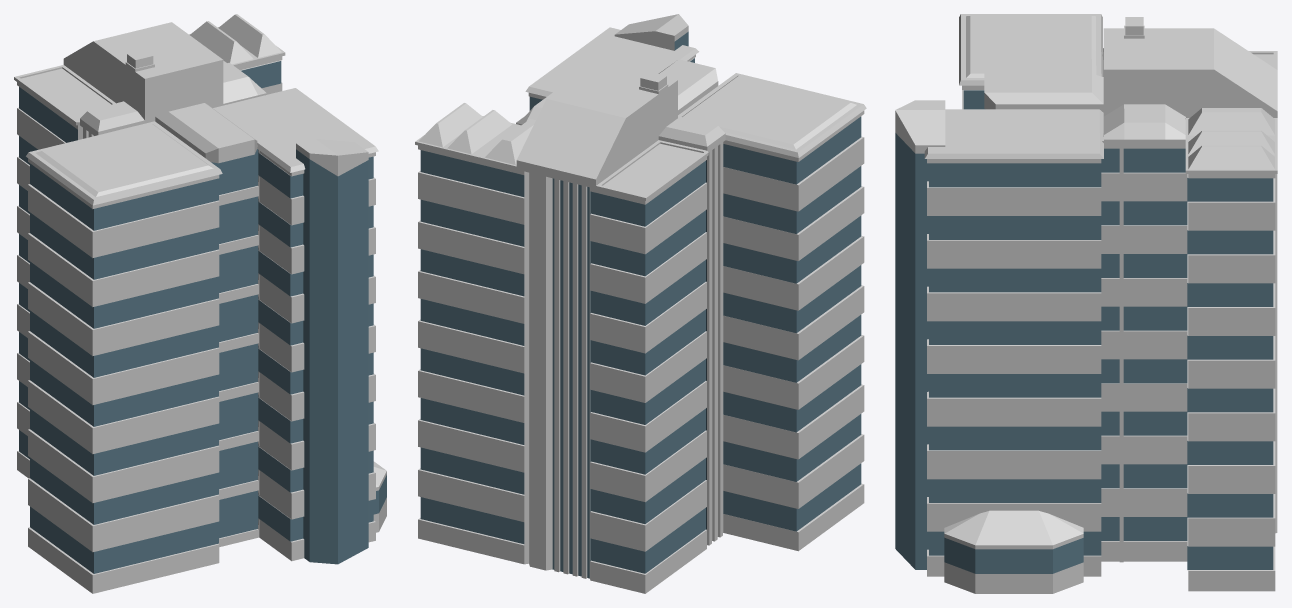
The model's file is boyd orr.fbx.
The picture shows the model from 3 angles, left to right: view 1: azimuth 30°, elevation 25°; view 2: azimuth 150°, elevation 25°; view 3: azimuth 270°, elevation 25°; orthographic projection. The views are drawn at different scales.
Visible parts, largest first — view 1: Plane, Plane.001, Plane.002, Plane.003; view 2: Plane, Plane.001, Plane.002; view 3: Plane, Plane.001, Plane.002, Plane.003.
Part boxes in pixels (box(x1,y1,x2,y2)): Plane: box(17, 56, 375, 593); Plane.001: box(14, 14, 378, 205); Plane.002: box(296, 138, 368, 564); Plane.003: box(373, 461, 386, 532); Plane: box(418, 54, 864, 593); Plane.001: box(415, 27, 866, 200); Plane.002: box(614, 14, 688, 50); Plane: box(927, 54, 1277, 591); Plane.001: box(924, 14, 1277, 173); Plane.002: box(895, 100, 945, 569); Plane.003: box(944, 510, 1083, 593).
Size of the model in its own units: 215 by 305 by 220.
